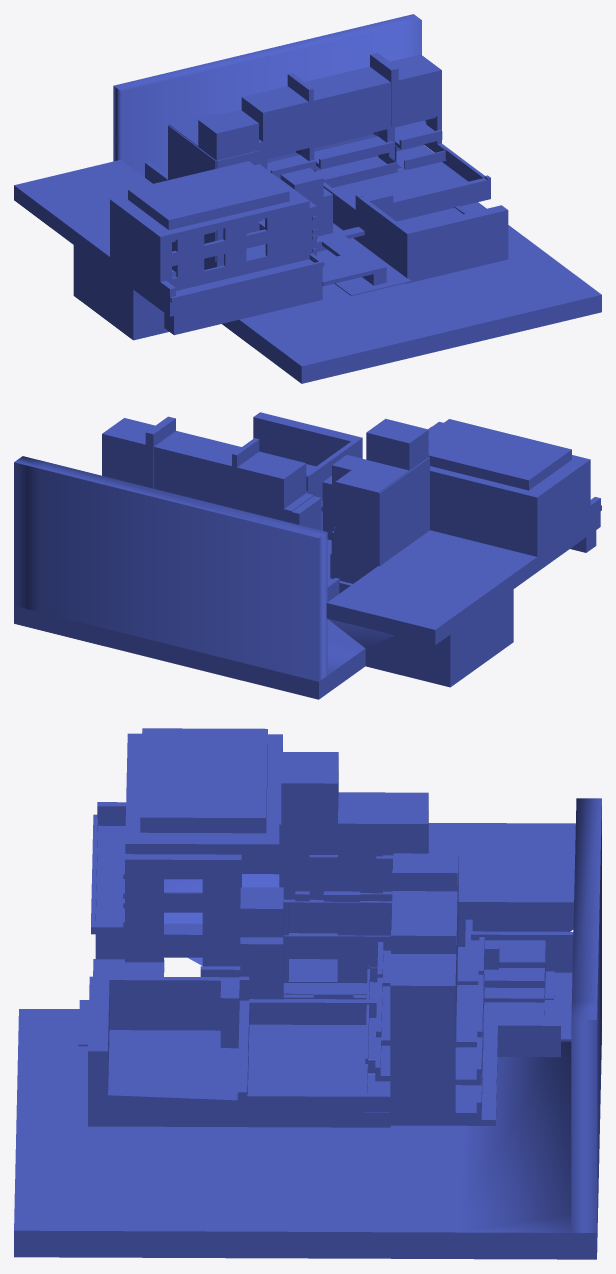
The model's file is decor2.obj.
The picture shows the model from 3 angles, top to bottom: view 1: azimuth 30°, elevation 25°; view 2: azimuth 150°, elevation 25°; view 3: azimuth 270°, elevation 25°; orthographic projection. The views are drawn at different scales.
Parts seen in each view (by area): view 1: Cube.011; view 2: Cube.011; view 3: Cube.011.
Boxes of the visible parts, box(x1,y1,x2,y2) form: Cube.011: box(14, 14, 601, 383); Cube.011: box(14, 412, 601, 699); Cube.011: box(14, 728, 601, 1259).
Size of the model in its own units: 1406 by 616 by 1154.
